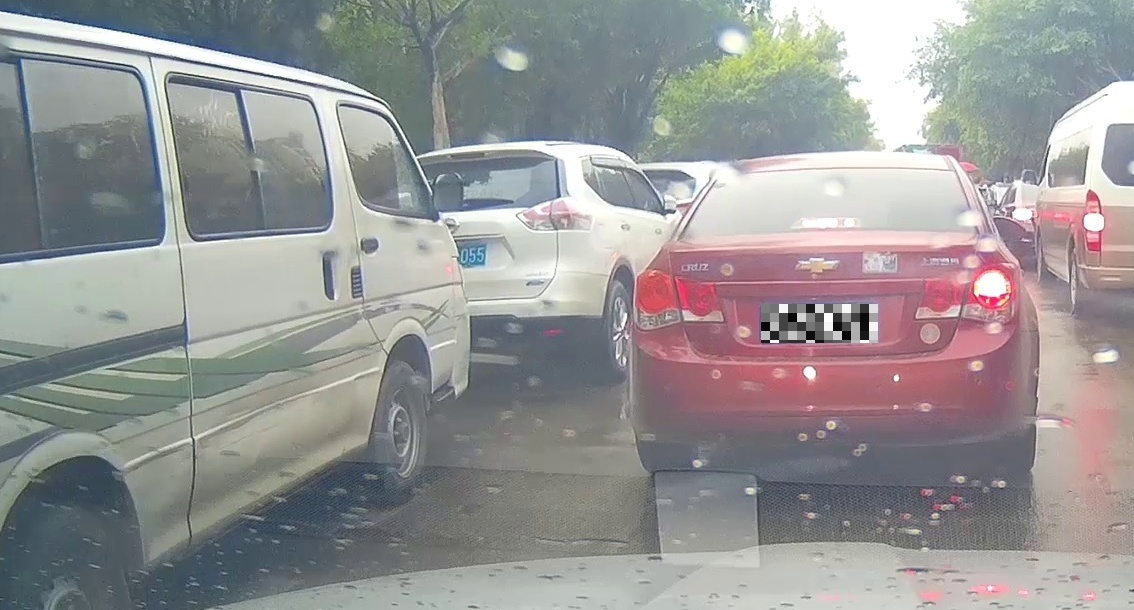L_light: (631, 268, 724, 331)
R_light: (915, 262, 1019, 324)
T_light: (794, 216, 860, 229)
day-right: (627, 152, 1036, 475)
plate_1: (761, 304, 878, 343)
